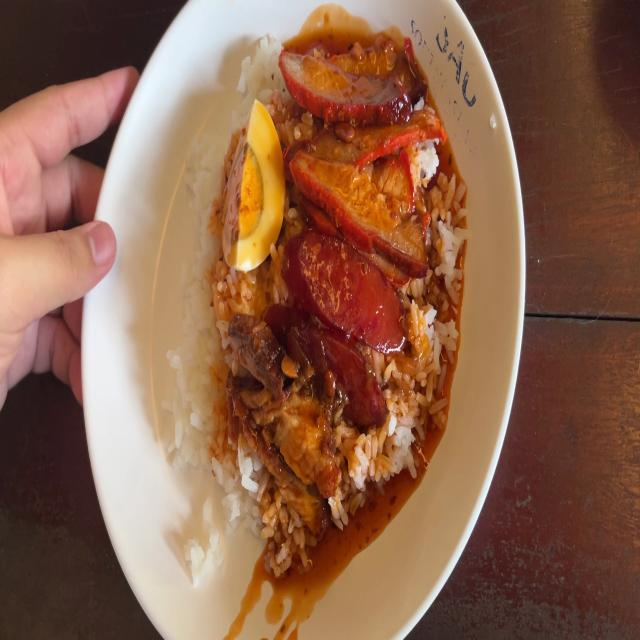red_pork_and_crispy_pork: (225, 108, 280, 270)
stir_fried_basil: (296, 237, 398, 422)
